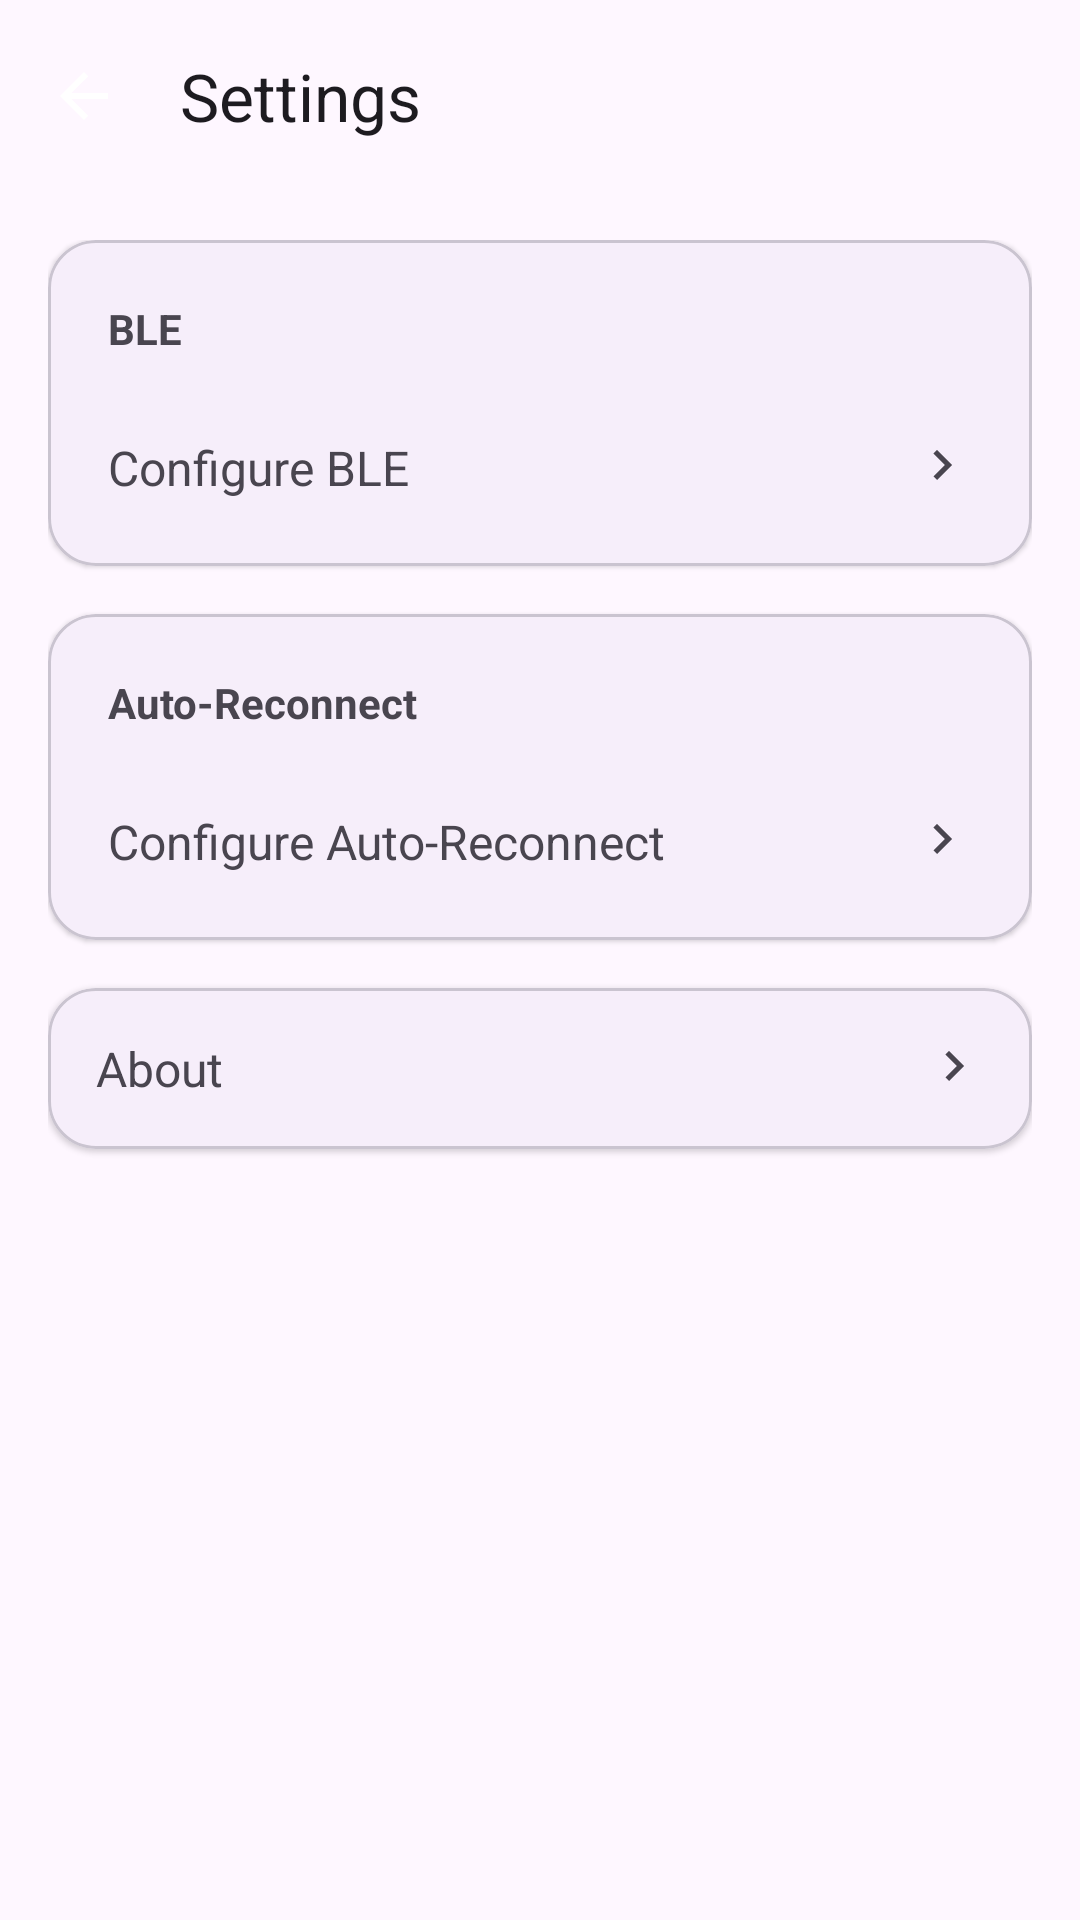

Where icons sit on this 1080px×1920px app screen, as (x1, y1, x2, y2):
chevron right: (933, 450, 952, 480), (933, 824, 952, 854), (945, 1051, 964, 1081)
